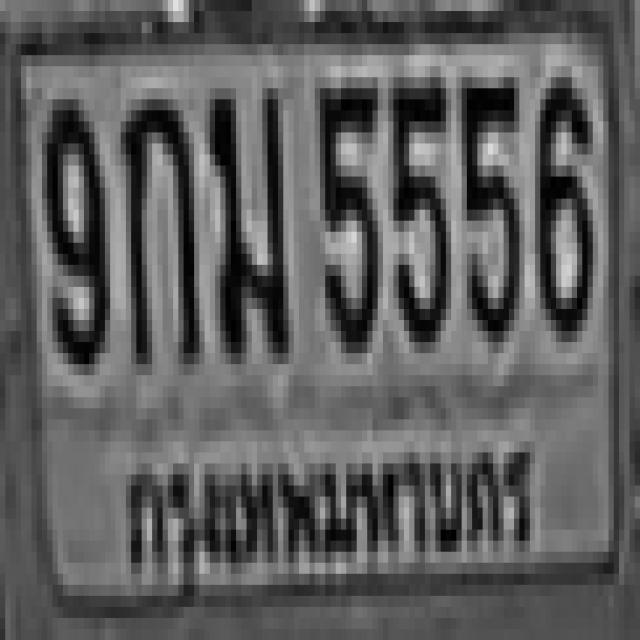10GorGai: (116, 88, 194, 364)
42MorMa: (205, 77, 283, 353)
5: (388, 66, 446, 342), (459, 66, 517, 331), (315, 77, 372, 342)
6: (535, 66, 588, 331)
9: (42, 88, 105, 364)
Bangkok: (108, 420, 547, 580)
